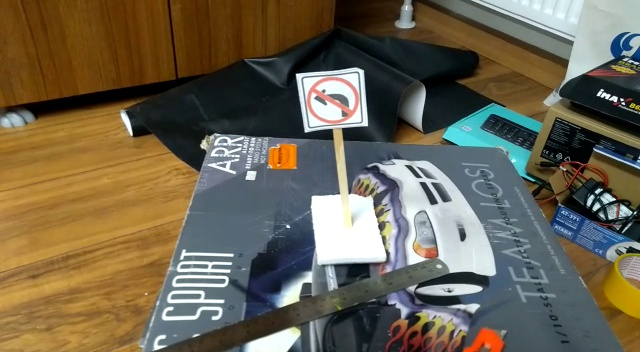sola_donulmez: (303, 75, 362, 125)
